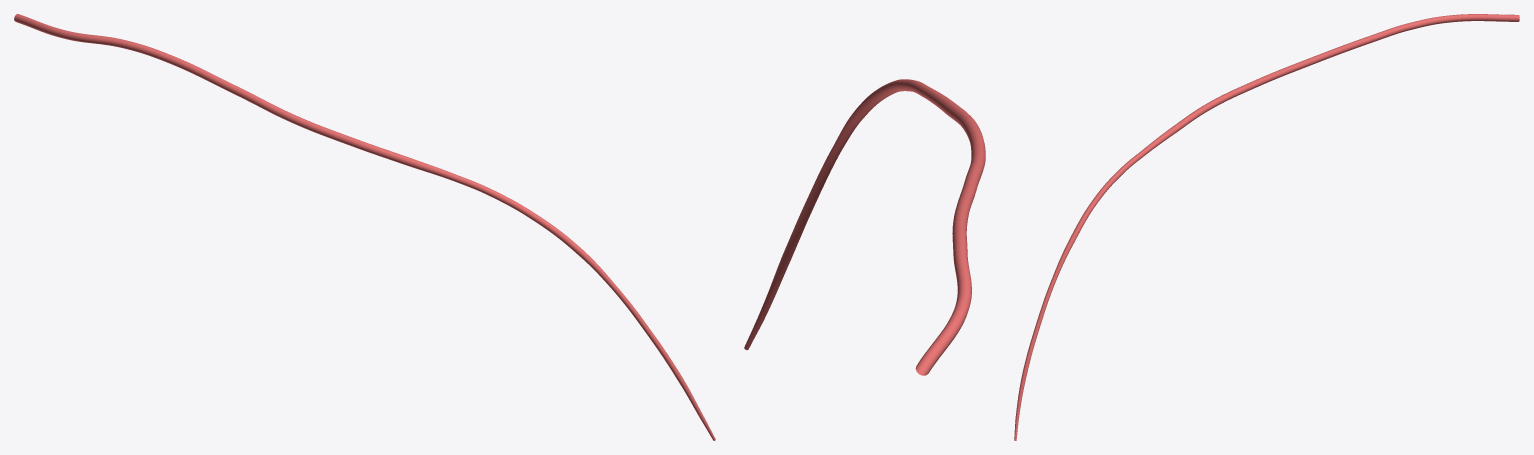
File: Frontal_branch_of_superficial_temporal_artery.r.001_BezierCurve.glb
3 views of the same model, side by side, from view 1: azimuth 30°, elevation 25°; view 2: azimuth 150°, elevation 25°; view 3: azimuth 270°, elevation 25° (orthographic). The views are drawn at different scales.
Parts seen in each view (by area): view 1: Frontal_branch_of_superficial_temporal_artery.r.001_BezierCu; view 2: Frontal_branch_of_superficial_temporal_artery.r.001_BezierCu; view 3: Frontal_branch_of_superficial_temporal_artery.r.001_BezierCu.
Part boxes in pixels (x1,y1,x2,y2): Frontal_branch_of_superficial_temporal_artery.r.001_BezierCu: (14,14,715,440); Frontal_branch_of_superficial_temporal_artery.r.001_BezierCu: (744,79,985,375); Frontal_branch_of_superficial_temporal_artery.r.001_BezierCu: (1014,14,1519,440).
Bounding box in the file's own units: 0.0333 × 0.0249 × 0.0424.
